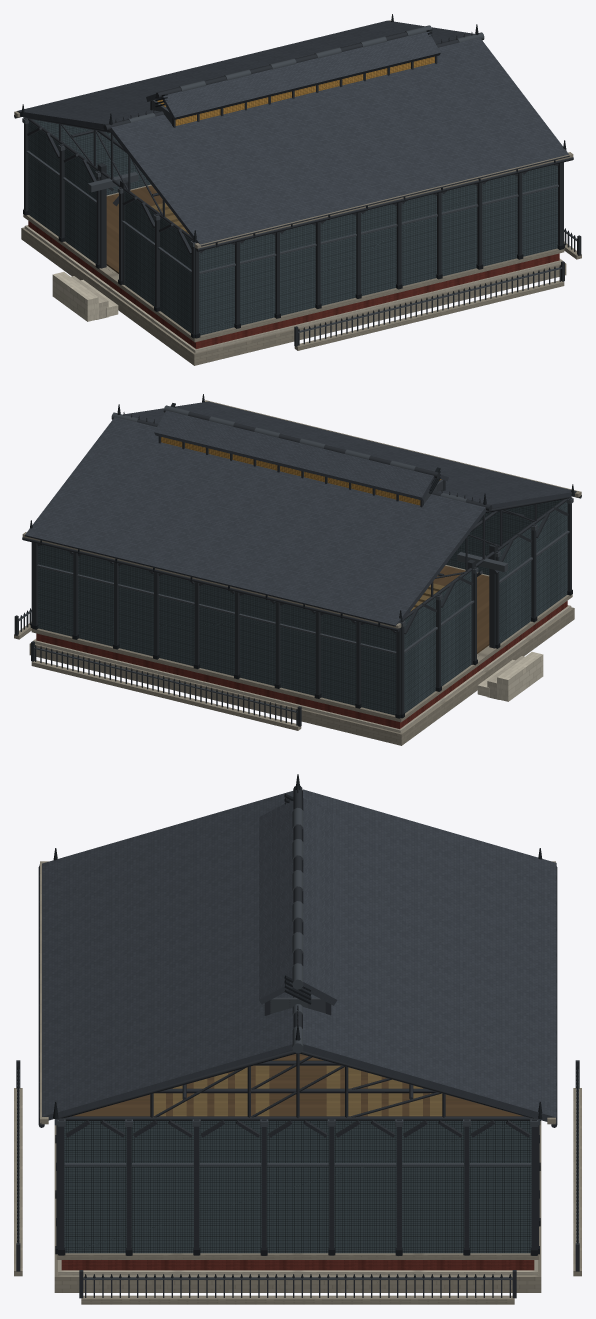
Rendered from fun-7-built.glb.
The picture shows the model from 3 angles, top to bottom: view 1: azimuth 30°, elevation 25°; view 2: azimuth 150°, elevation 25°; view 3: azimuth 270°, elevation 25°; orthographic projection. The views are drawn at different scales.
Bounding box in the file's own units: 35.89 × 15.66 × 28.84.
Materials: 18 (15 with a texture image).
